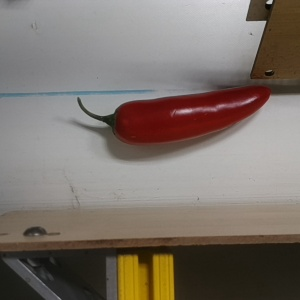Cut Point: (103, 100, 131, 147)
